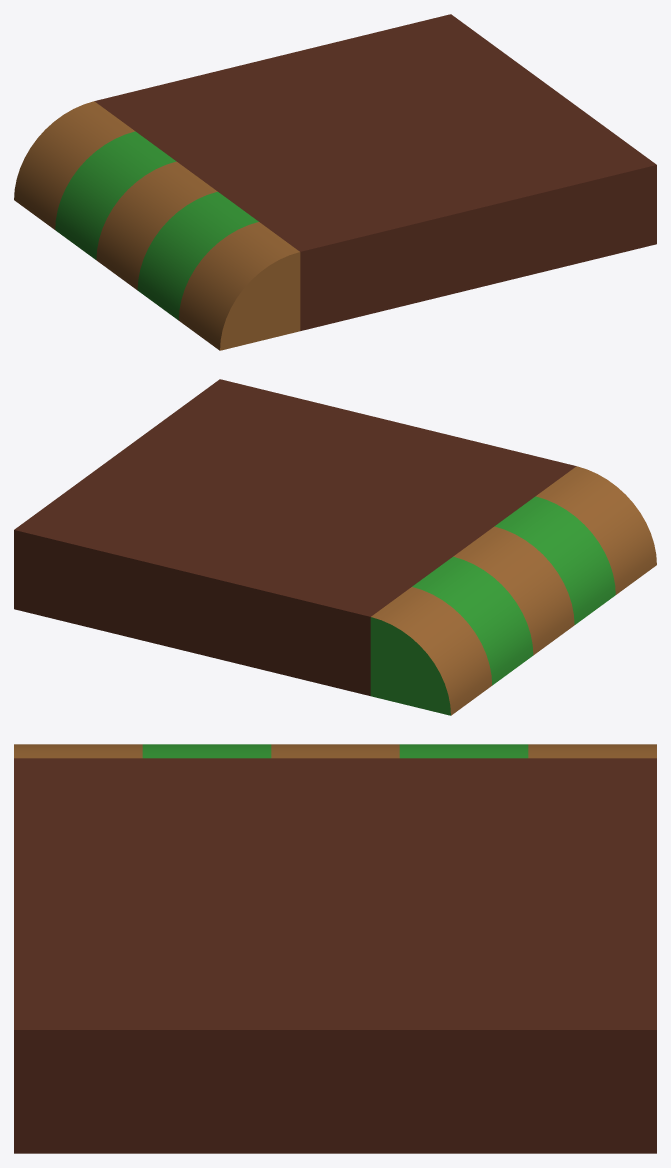
File: modularBuildings_010.obj
3 views of the same model, one above another, from view 1: azimuth 30°, elevation 25°; view 2: azimuth 150°, elevation 25°; view 3: azimuth 270°, elevation 25° (orthographic). The views are drawn at different scales.
Parts seen in each view (by area): view 1: Mesh1 Group1 Model; view 2: Mesh1 Group1 Model; view 3: Mesh1 Group1 Model.
Boxes of the visible parts, x1=… form: Mesh1 Group1 Model: x1=14, y1=14, x2=656, y2=350; Mesh1 Group1 Model: x1=14, y1=379, x2=656, y2=715; Mesh1 Group1 Model: x1=14, y1=744, x2=656, y2=1153.
Size of the model in its own units: 1.22 by 0.2125 by 1.
